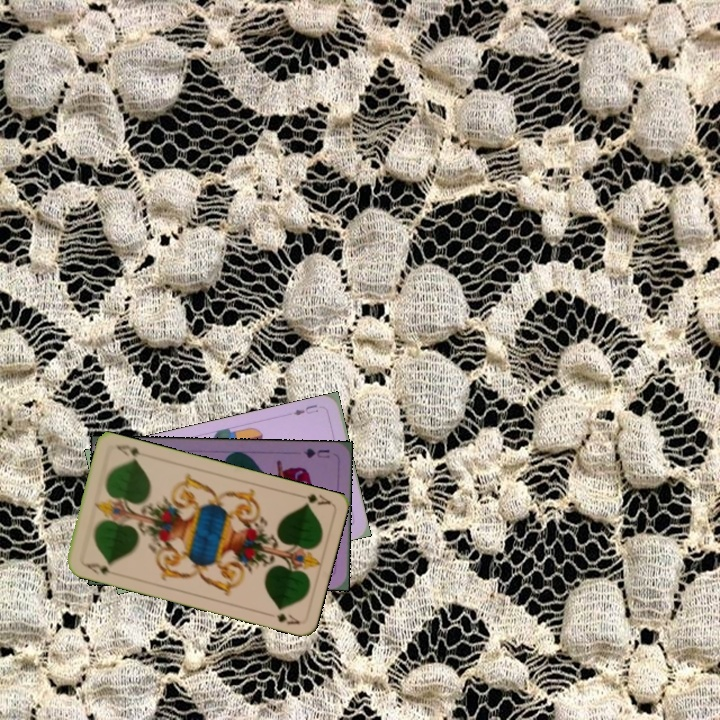EU: (289, 400, 321, 418)
GA: (293, 489, 333, 509), (79, 559, 119, 578)
GU: (299, 444, 332, 460)
